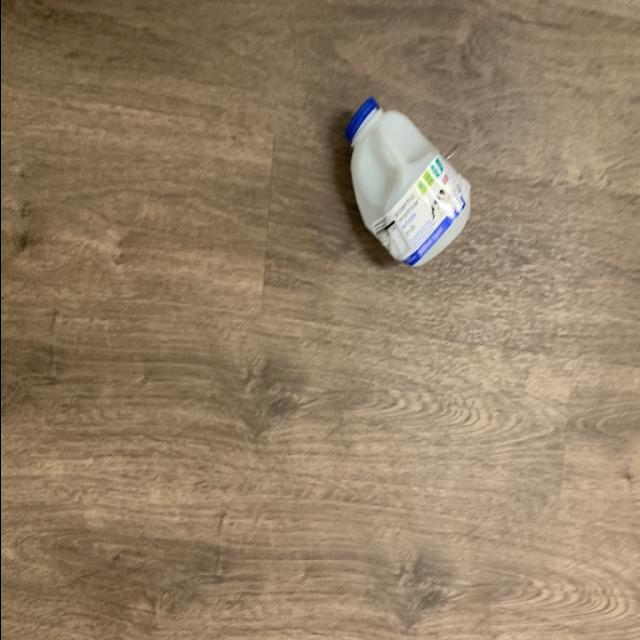litter: (346, 99, 472, 269)
